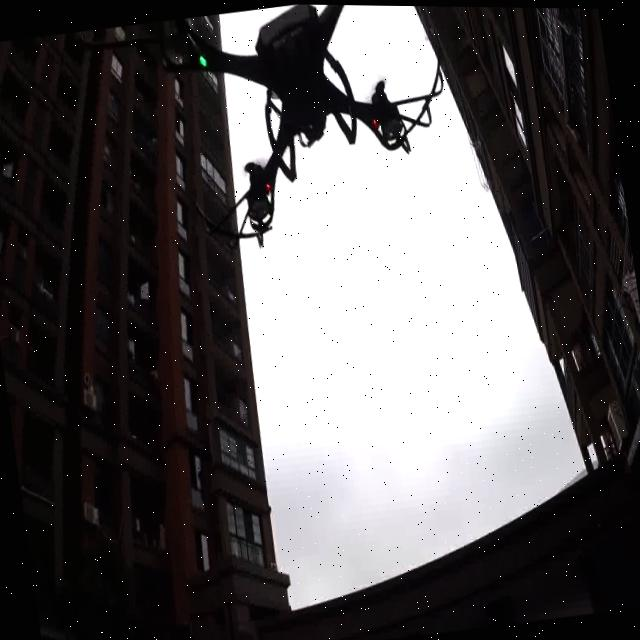drone: (92, 1, 476, 301)
